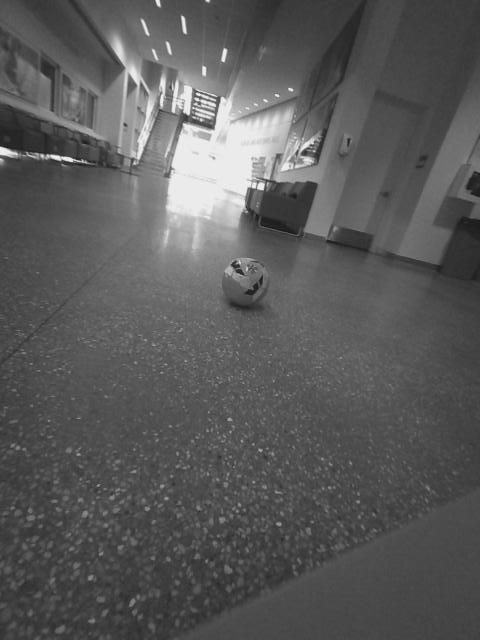ball: (379, 272, 419, 304)
